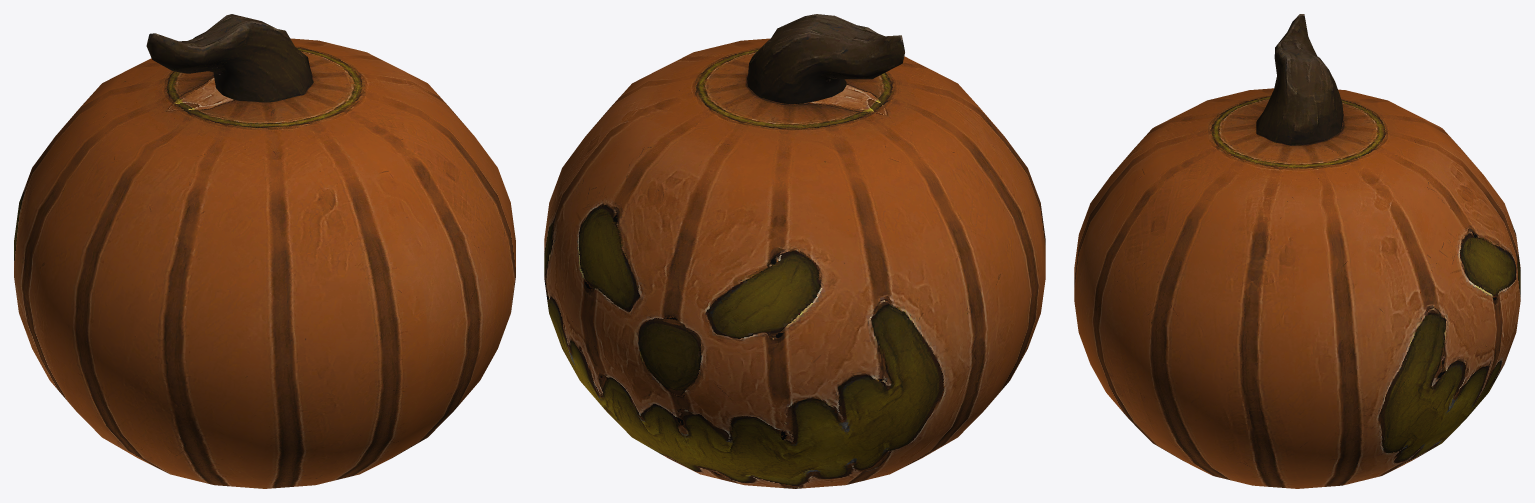
The model's file is Pumpkin.dae.
3 views of the same model, side by side, from view 1: azimuth 30°, elevation 25°; view 2: azimuth 150°, elevation 25°; view 3: azimuth 270°, elevation 25° (orthographic). The views are drawn at different scales.
Visible parts, largest first — view 1: polySurface1; view 2: polySurface1; view 3: polySurface1.
Boxes of the visible parts, x1,y1,x2,y2 form: polySurface1: (14,14,515,488); polySurface1: (544,14,1045,488); polySurface1: (1074,14,1520,488).
Size of the model in its own units: 0.5225 by 0.5 by 0.5146.
